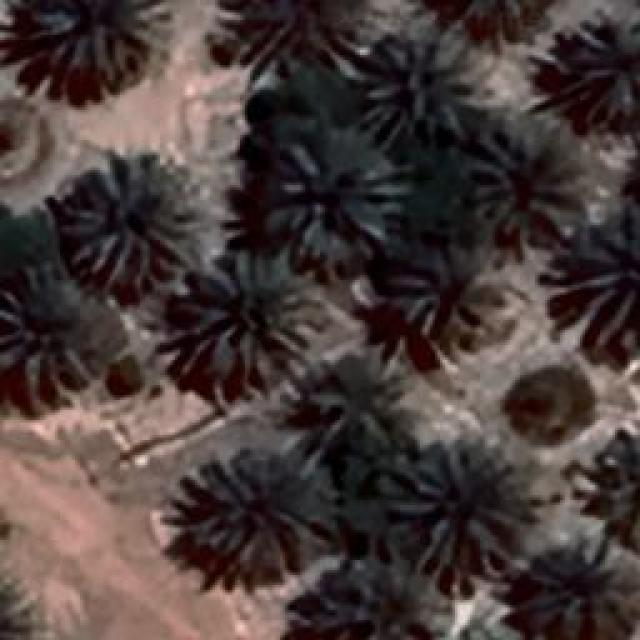PalmTree: (17, 50, 154, 604), (390, 440, 542, 582), (175, 248, 328, 382), (59, 147, 202, 290), (188, 440, 338, 572), (272, 122, 406, 258), (468, 118, 588, 248), (359, 31, 478, 145), (294, 547, 448, 635), (0, 268, 98, 402), (390, 242, 512, 348), (515, 530, 635, 635), (562, 210, 636, 340), (560, 5, 638, 120), (308, 348, 402, 442), (235, 0, 350, 65), (580, 430, 640, 550), (417, 0, 555, 50)
